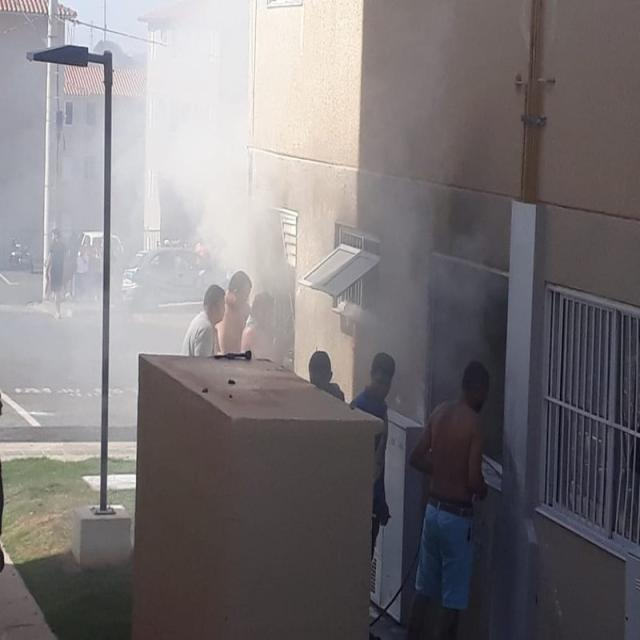Smoke: (350, 51, 486, 338), (115, 21, 274, 262), (5, 77, 99, 222)
